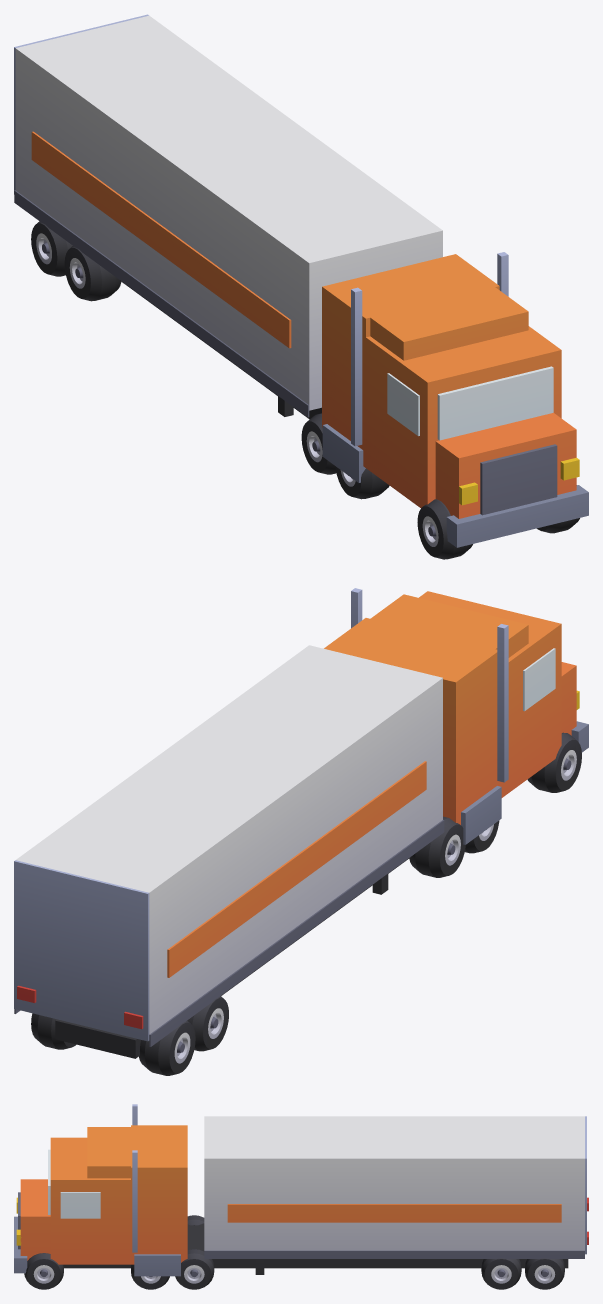
File: semi-B.glb
The picture shows the model from 3 angles, top to bottom: view 1: azimuth 30°, elevation 25°; view 2: azimuth 150°, elevation 25°; view 3: azimuth 270°, elevation 25°; orthographic projection. The views are drawn at different scales.
Visible parts, largest first — view 1: body, wheel--3.0-l, wheel-3.85-l, wheel--3.65-l, wheel-1.6-l, wheel-2.25-l; view 2: body, wheel--3.65-l, wheel-1.6-l, wheel-3.85-l, wheel--3.0-l, wheel--3.65-r; view 3: body, wheel-1.6-r, wheel-3.85-r, wheel--3.0-r, wheel--3.65-r, wheel-2.25-r.
Boxes of the visible parts, bbox=[...] form: body: bbox=[14, 14, 588, 547]; wheel--3.0-l: bbox=[64, 246, 121, 301]; wheel-3.85-l: bbox=[417, 499, 472, 559]; wheel--3.65-l: bbox=[31, 221, 72, 276]; wheel-1.6-l: bbox=[301, 413, 336, 474]; wheel-2.25-l: bbox=[335, 466, 389, 499]; body: bbox=[14, 588, 588, 1058]; wheel--3.65-l: bbox=[139, 1020, 195, 1075]; wheel-1.6-l: bbox=[409, 816, 465, 877]; wheel-3.85-l: bbox=[527, 732, 581, 792]; wheel--3.0-l: bbox=[187, 996, 228, 1051]; wheel--3.65-r: bbox=[31, 1013, 76, 1049]; body: bbox=[14, 1104, 588, 1276]; wheel-1.6-r: bbox=[175, 1249, 214, 1289]; wheel-3.85-r: bbox=[24, 1253, 63, 1289]; wheel--3.0-r: bbox=[481, 1258, 521, 1289]; wheel--3.65-r: bbox=[525, 1258, 564, 1289]; wheel-2.25-r: bbox=[131, 1264, 169, 1289].
Size of the model in its own units: 1.72 by 2.35 by 8.61.
Materials: 1 (1 with a texture image).
